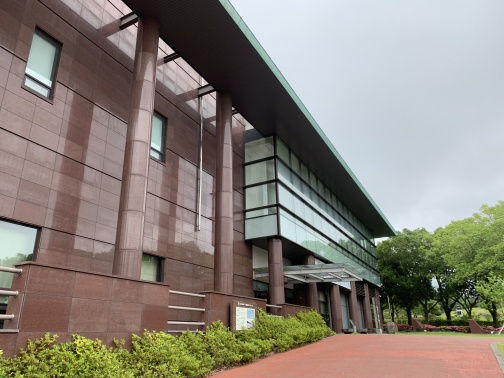Museum: (88, 40, 401, 356)
